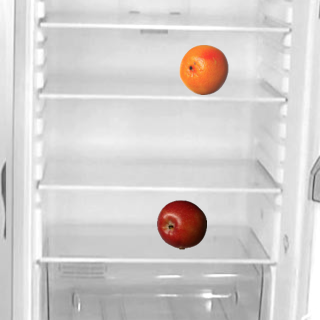Apple Braeburn: (156, 199, 206, 249)
Grapefruit Pink: (178, 44, 228, 94)
